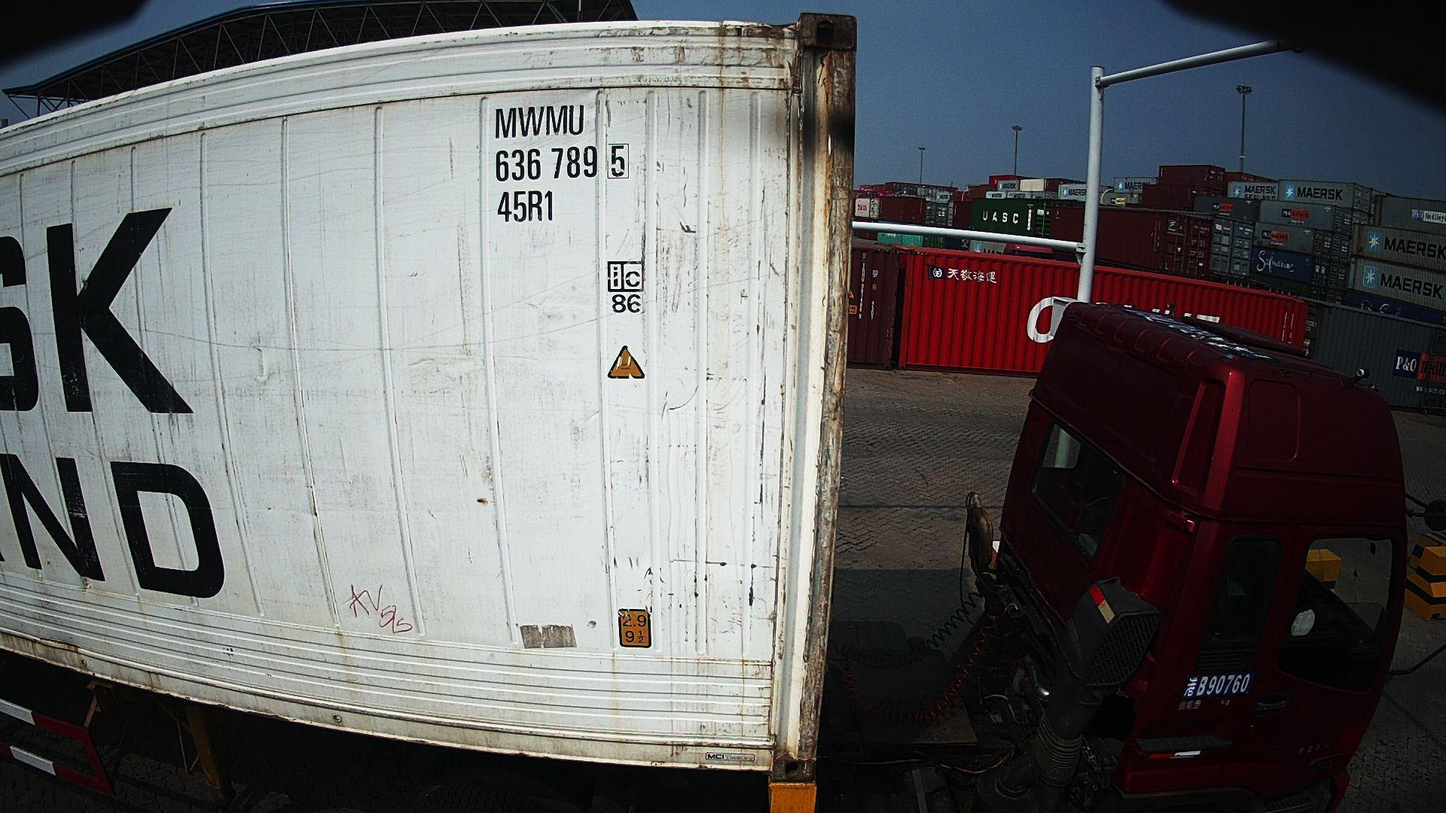container-numbers: (492, 142, 636, 187), (491, 101, 589, 144), (493, 187, 558, 226)
